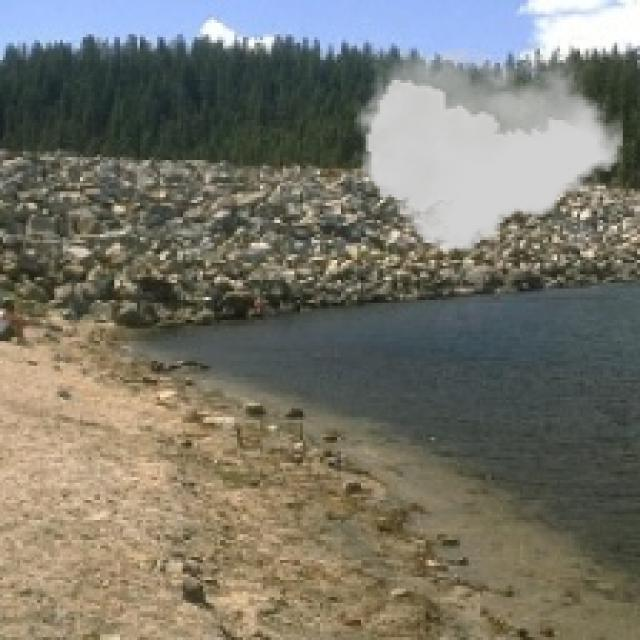smoke: (354, 48, 623, 252)
